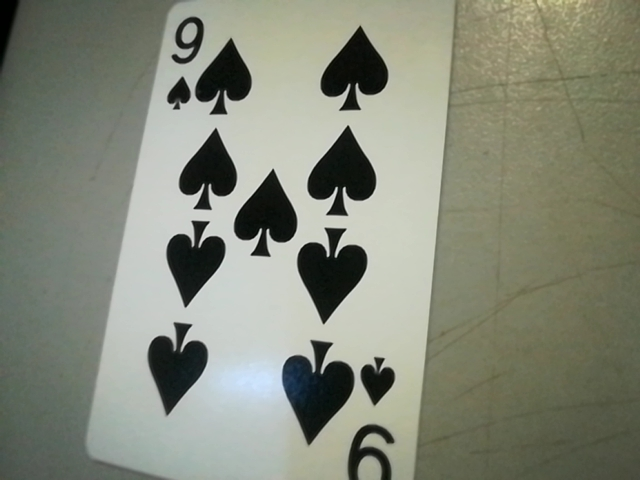ht 9: (341, 342, 415, 480)
